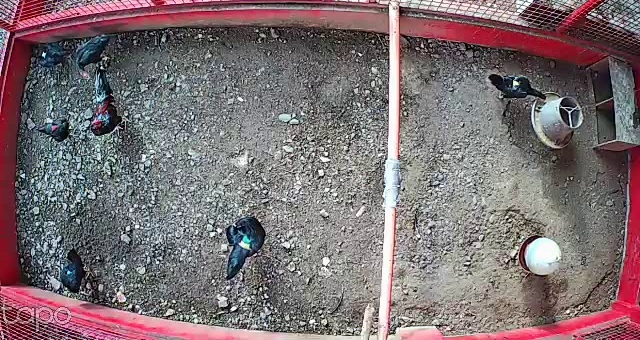Chicken: (220, 210, 270, 282), (72, 28, 119, 84), (482, 66, 546, 104), (57, 248, 97, 296), (37, 114, 81, 150), (32, 36, 73, 72)
Rooster: (88, 64, 133, 139)
Saddle_Color_Red: (51, 125, 58, 130)
Saddle_Color_White: (42, 50, 47, 58)
Saddle_Color_Yellow: (513, 78, 521, 90)
Saddle_Color_YellowGreen: (235, 234, 253, 249)
